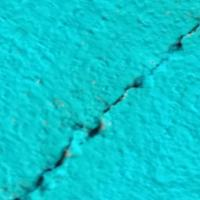crack: (18, 24, 200, 199)
